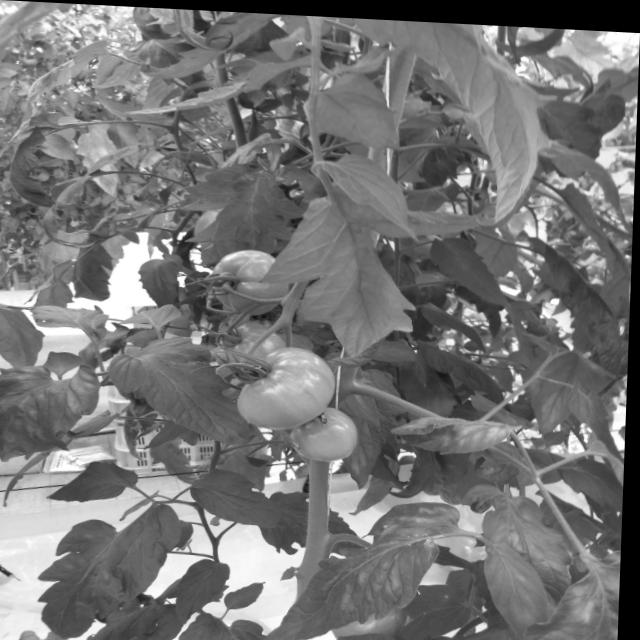yesil: (141, 248, 428, 519)
